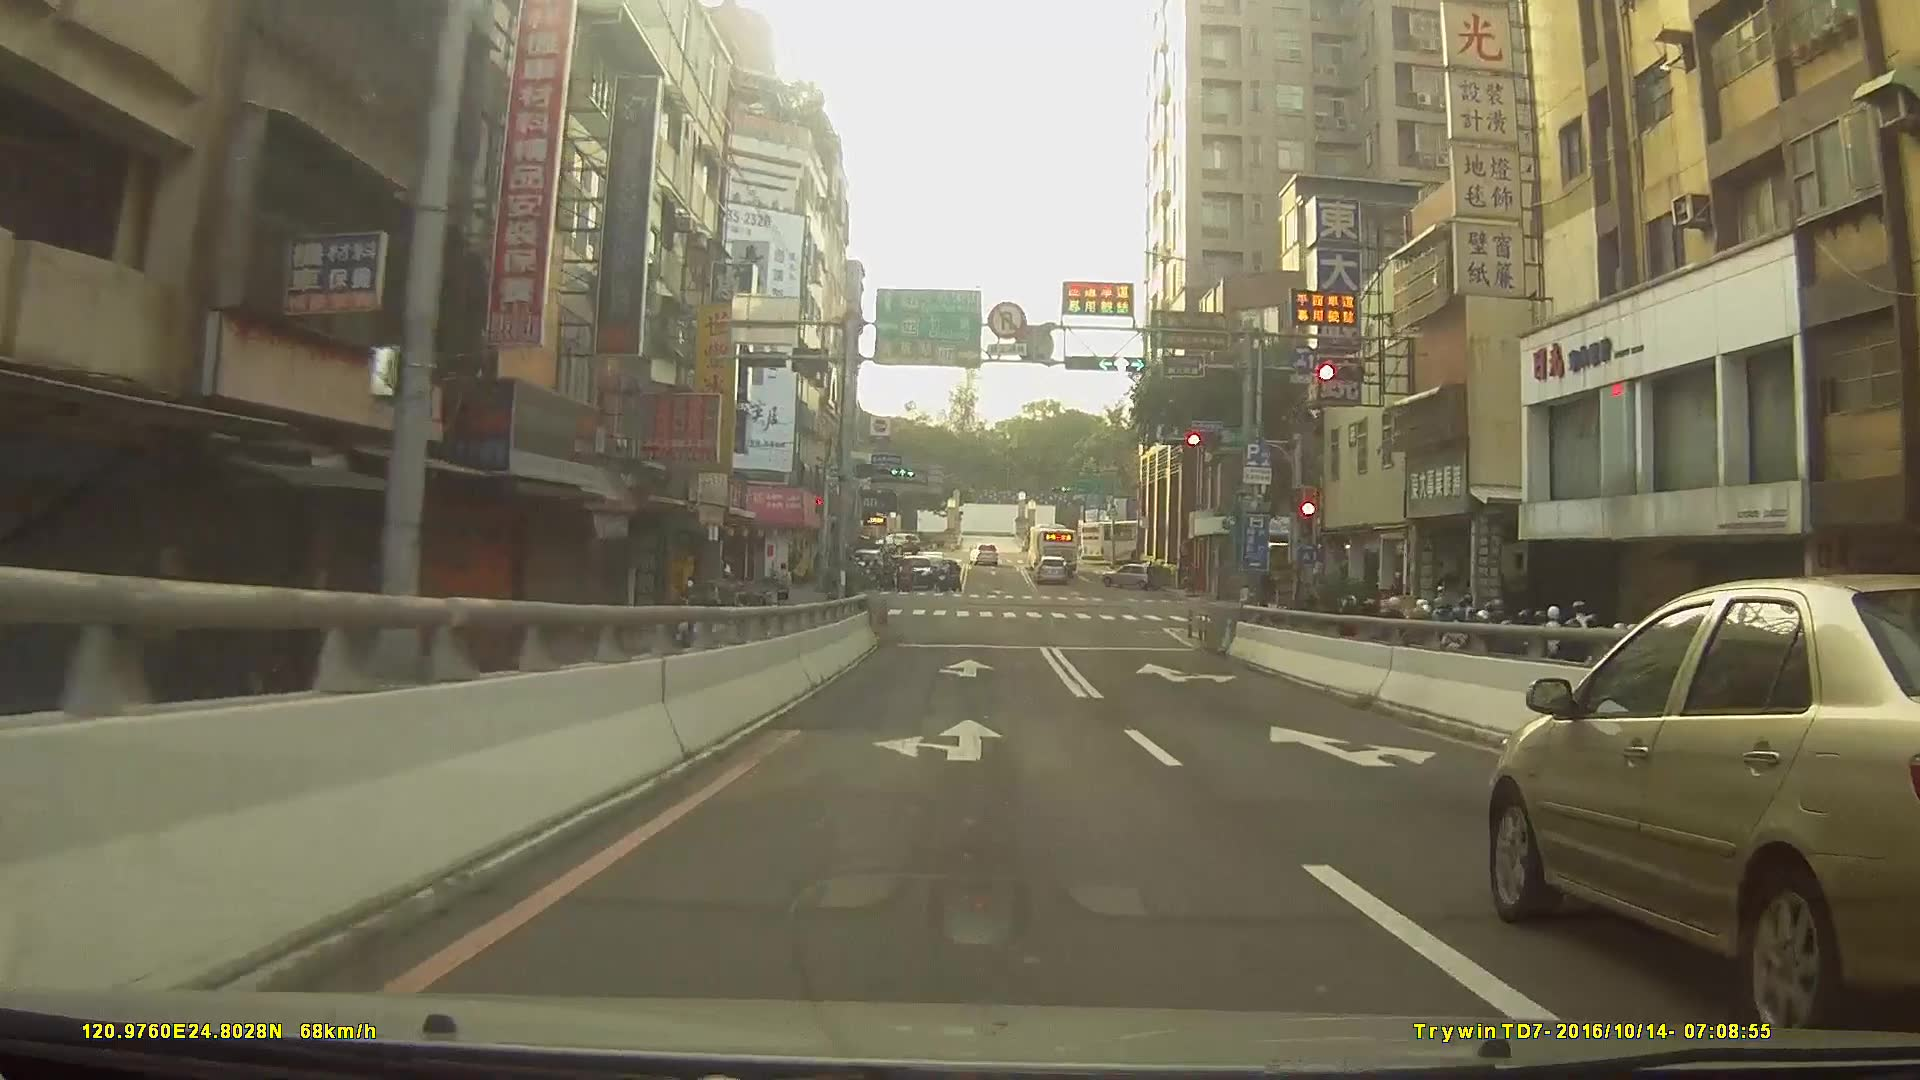rider: (668, 577, 713, 651)
vehicle: (1485, 572, 1920, 1031), (1080, 517, 1168, 564), (1029, 518, 1077, 566), (1098, 559, 1169, 589), (894, 555, 936, 591), (875, 528, 923, 551), (1033, 551, 1069, 580), (968, 539, 998, 563)
